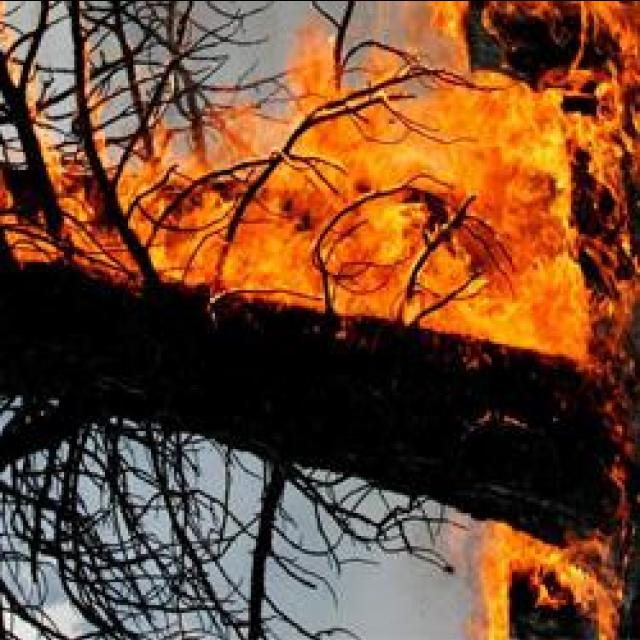fire: (290, 152, 570, 288), (484, 528, 582, 628), (171, 162, 267, 264), (28, 172, 144, 252), (490, 32, 590, 124), (506, 296, 570, 338)
smoke: (156, 6, 266, 84)
